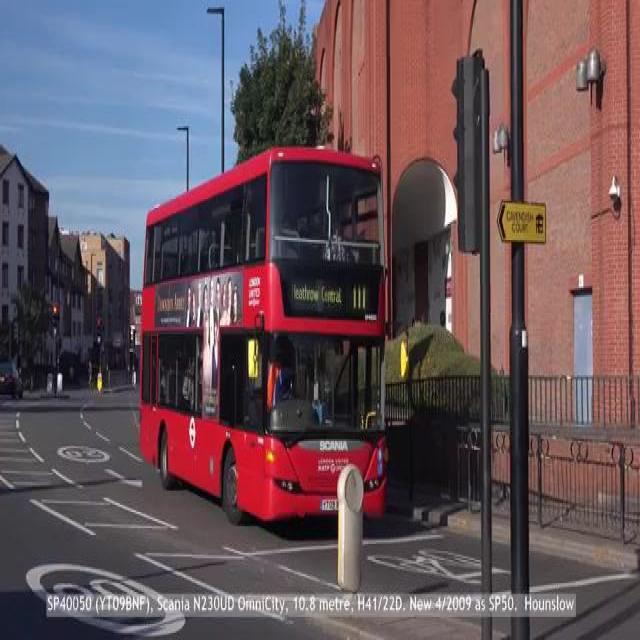motorcycle: (135, 142, 391, 518)
